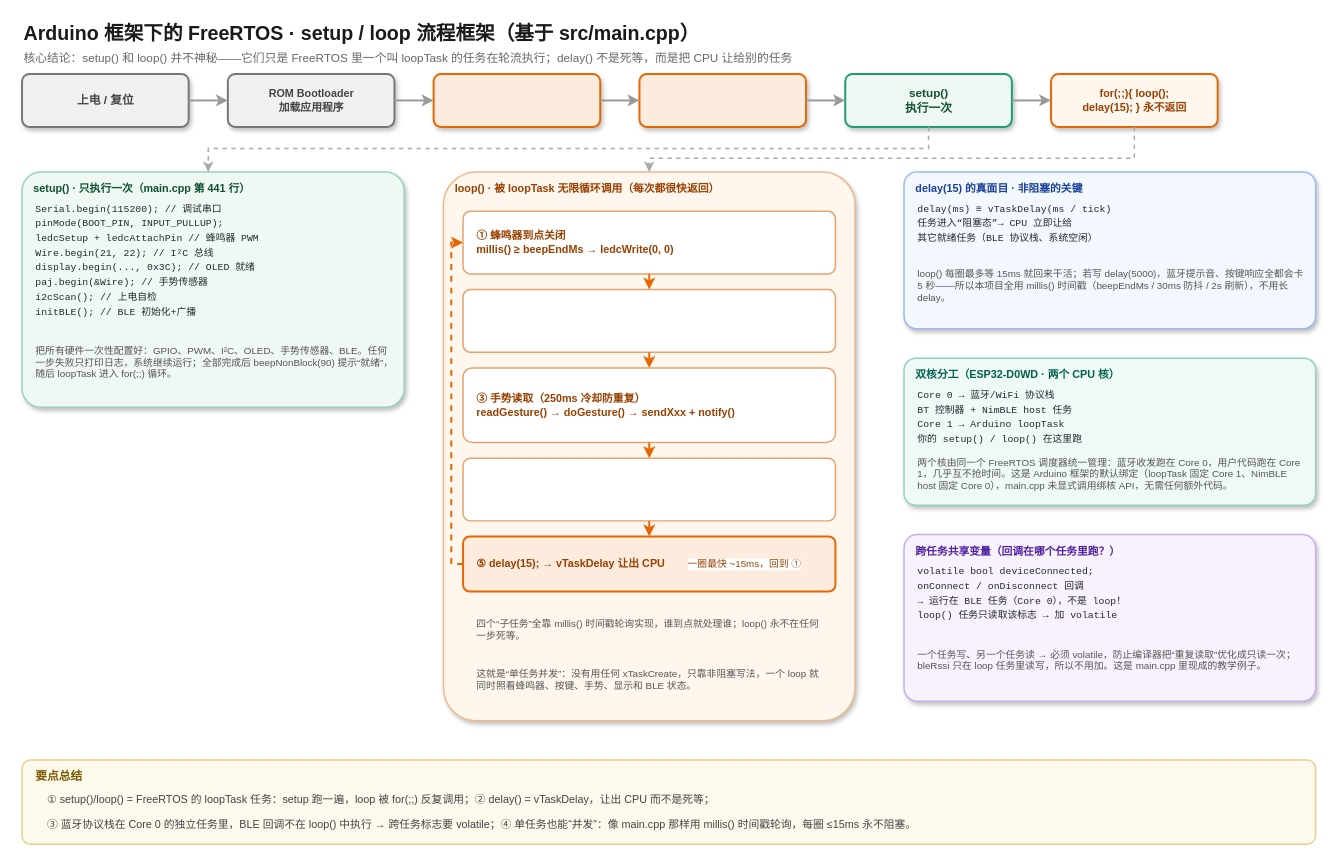
The diagram is 1339 pixels wide and 861 high, and some of its shapes have lost their labels. Here are the shapes that lost their labels. From the top down, the centre of each, then its label:
point 517,101: FreeRTOS 调度器 启动
point 723,101: 创建 loopTask 任务 （Arduino 主任务 · Core 1）
point 649,320: ② BOOT 键 30ms 稳定防抖 确认 LOW → 切换模式 + beepNonBlock(70)
point 649,489: ④ 状态刷新（每 2000ms） updateBleRssi() → oledShow() 画信号条
